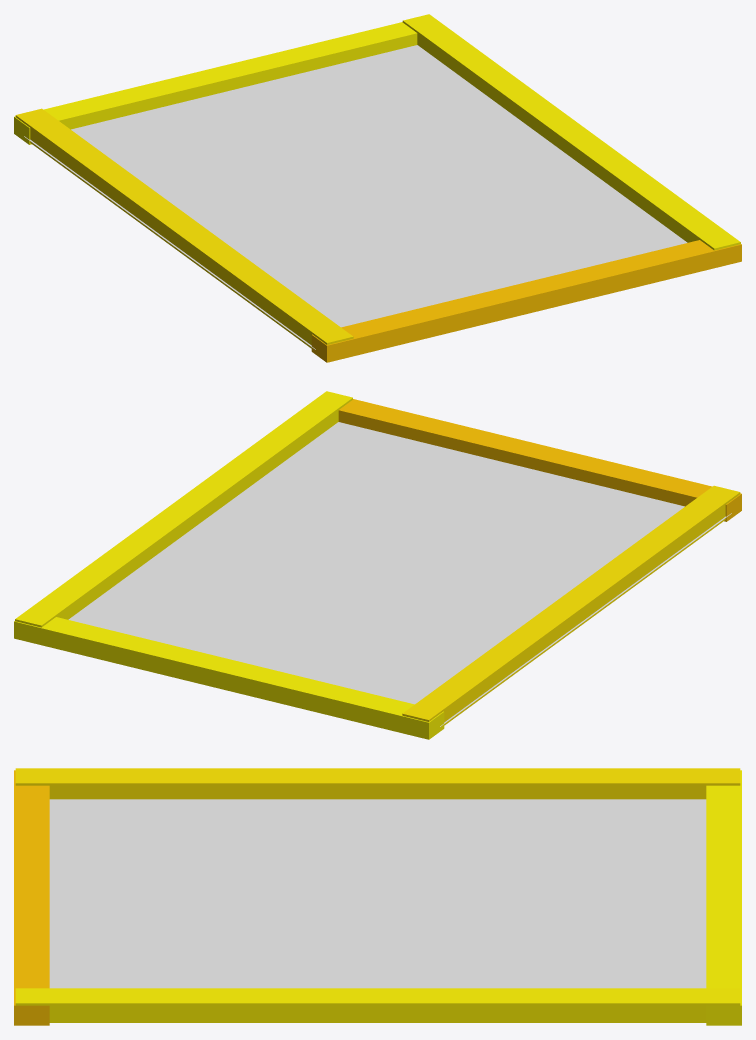
The model's file is frame.5.fbx.
3 views of the same model, one above another, from view 1: azimuth 30°, elevation 25°; view 2: azimuth 150°, elevation 25°; view 3: azimuth 270°, elevation 25° (orthographic). The views are drawn at different scales.
Parts seen in each view (by area): view 1: 平面, 立方体.003, 立方体.001, 立方体, 立方体.002; view 2: 平面, 立方体.002, 立方体.001, 立方体, 立方体.003; view 3: 平面, 立方体, 立方体.001, 立方体.002, 立方体.003.
Part boxes in pixels (x1,y1,x2,y2): 平面: (24, 45, 687, 349); 立方体.003: (311, 240, 741, 362); 立方体.001: (15, 108, 353, 348); 立方体: (402, 14, 740, 250); 立方体.002: (14, 22, 417, 144); 平面: (68, 422, 731, 726); 立方体.002: (14, 617, 444, 739); 立方体.001: (402, 485, 740, 725); 立方体: (15, 391, 352, 627); 立方体.003: (338, 399, 741, 521); 平面: (49, 799, 706, 988); 立方体: (15, 988, 740, 1022); 立方体.001: (15, 768, 740, 799); 立方体.002: (706, 770, 741, 1025); 立方体.003: (14, 770, 49, 1025).
Bounding box in the file's own units: 231 × 10.1 × 301.
